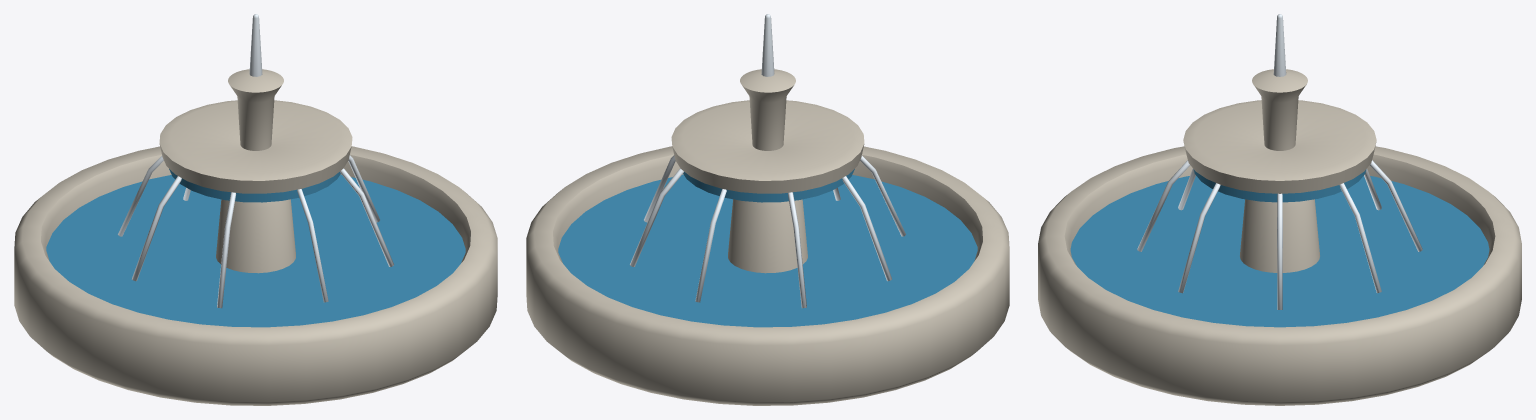
Rendered from fountain.fbx.
3 views of the same model, side by side, from view 1: azimuth 30°, elevation 25°; view 2: azimuth 150°, elevation 25°; view 3: azimuth 270°, elevation 25° (orthographic).
Visible parts, largest first — view 1: fountain; view 2: fountain; view 3: fountain.
Part boxes in pixels (x1,y1,x2,y2): fountain: [14, 14, 497, 405]; fountain: [526, 14, 1009, 405]; fountain: [1038, 14, 1521, 405].
Size of the model in its own units: 3.1 by 2.07 by 3.1.
